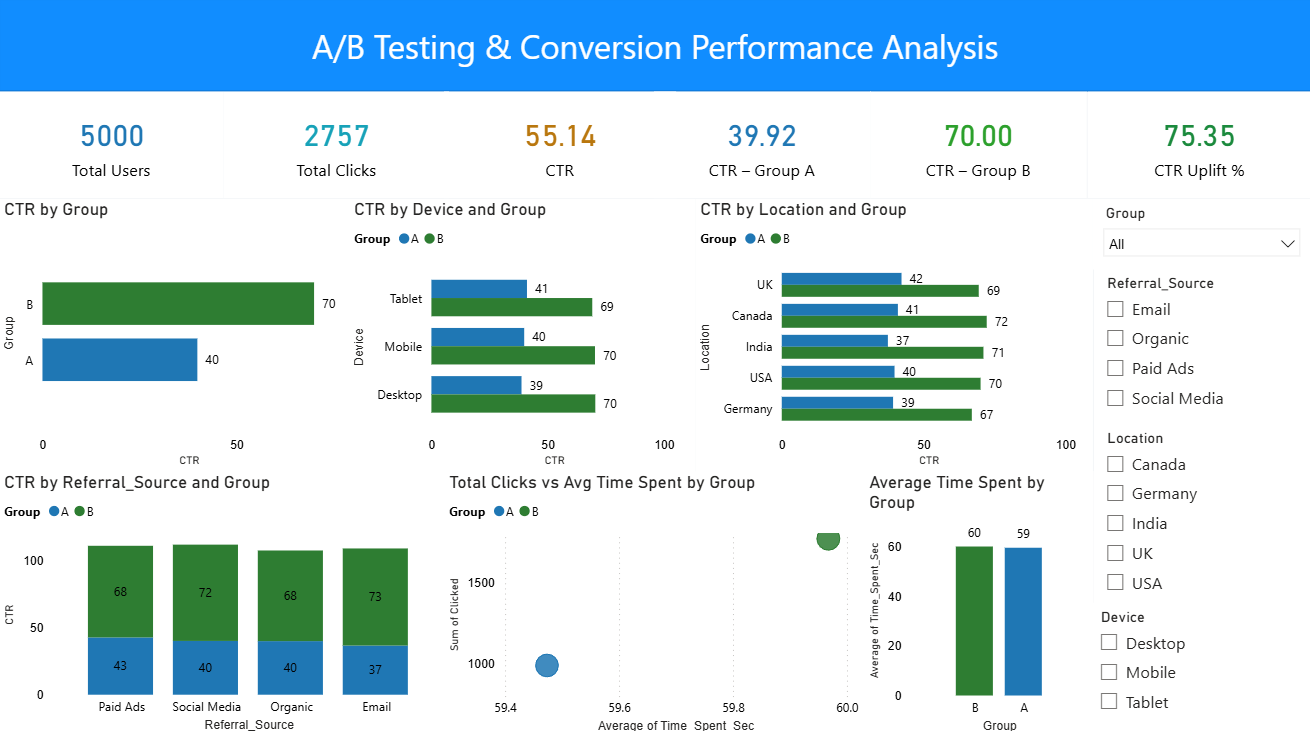

Layout of this report page (visuals, bound fields, positions):
{"tool":"powerbi","page":{"name":"Page 1","canvas":[1280,720],"ordinal":0},"visuals":[{"type":"shape","box":[0,0,1280.6,90.3],"z":0},{"type":"textbox","box":[0,19.4,1280.6,55.6],"z":1000},{"type":"card","fields":{"Values":["CountNonNull(AB_Test_Dataset.User_ID)"]},"box":[0,90.5,219.6,103.8],"z":2000},{"type":"card","fields":{"Values":["Sum(AB_Test_Dataset.Clicked)"]},"box":[219.6,90.5,219.6,103.8],"z":3000},{"type":"card","fields":{"Values":["AB_Test_Dataset.CTR"]},"box":[433.6,90.6,226.4,104.3],"z":4000},{"type":"card","fields":{"Values":["AB_Test_Dataset.Calculat CTR"]},"box":[639.4,90.5,211.1,103.8],"z":5000},{"type":"card","fields":{"Values":["AB_Test_Dataset.CALCULATE CTR B"]},"box":[850.5,90.5,211.1,103.8],"z":6000},{"type":"card","fields":{"Values":["AB_Test_Dataset.uplift %"]},"box":[1061.7,90.5,218.4,103.8],"z":7000},{"type":"clusteredBarChart","fields":{"Y":["AB_Test_Dataset.CTR"],"Category":["AB_Test_Dataset.Group"]},"box":[0,194.9,341.7,266.2],"z":8000},{"type":"clusteredBarChart","fields":{"Category":["AB_Test_Dataset.Device"],"Y":["AB_Test_Dataset.CTR"],"Series":["AB_Test_Dataset.Group"]},"box":[341.7,194.9,337.6,266.2],"z":9000},{"type":"clusteredBarChart","fields":{"Category":["AB_Test_Dataset.Location"],"Series":["AB_Test_Dataset.Group"],"Y":["AB_Test_Dataset.CTR"]},"box":[679.2,194.9,388.3,266.2],"z":10000},{"type":"columnChart","fields":{"Category":["AB_Test_Dataset.Referral_Source"],"Series":["AB_Test_Dataset.Group"],"Y":["AB_Test_Dataset.CTR"]},"box":[0,461.4,440,258.6],"z":11000},{"type":"columnChart","title":"Average Time Spent by Group","fields":{"Category":["AB_Test_Dataset.Group"],"Y":["Avg(AB_Test_Dataset.Time_Spent_Sec)"]},"box":[843.9,461.1,223.7,259.3],"z":12000},{"type":"scatterChart","title":"Total Clicks vs Avg Time Spent by Group","fields":{"X":["Avg(AB_Test_Dataset.Time_Spent_Sec)"],"Y":["Sum(AB_Test_Dataset.Clicked)"],"Series":["AB_Test_Dataset.Group"],"Size":["CountNonNull(AB_Test_Dataset.User_ID)"]},"box":[433.6,461.1,410.3,259.3],"z":13000},{"type":"slicer","fields":{"Values":["AB_Test_Dataset.Device"]},"box":[1061.7,588.7,218.4,131.5],"z":14000},{"type":"slicer","fields":{"Values":["AB_Test_Dataset.Location"]},"box":[1067.7,415,212.3,176.1],"z":15000},{"type":"slicer","fields":{"Values":["AB_Test_Dataset.Referral_Source"]},"box":[1067.7,263,212.3,152],"z":16000},{"type":"slicer","fields":{"Values":["AB_Test_Dataset.Group"]},"box":[1067.6,194.9,212.7,68.6],"z":17000}]}

Visuals, with their boxes in screenshot pixels (x1, y1, x2, y2), scaled from the page's 1280x720 canvas onto the 1310x731 screenshot:
shape: left=0, top=0, right=1309, bottom=92
textbox: left=0, top=20, right=1309, bottom=76
card - CountNonNull(AB_Test_Dataset.User_ID): left=0, top=92, right=225, bottom=197
card - Sum(AB_Test_Dataset.Clicked): left=225, top=92, right=449, bottom=197
card - AB_Test_Dataset.CTR: left=444, top=92, right=675, bottom=198
card - AB_Test_Dataset.Calculat CTR: left=654, top=92, right=870, bottom=197
card - AB_Test_Dataset.CALCULATE CTR B: left=870, top=92, right=1086, bottom=197
card - AB_Test_Dataset.uplift %: left=1087, top=92, right=1309, bottom=197
clusteredBarChart - AB_Test_Dataset.CTR x AB_Test_Dataset.Group: left=0, top=198, right=350, bottom=468
clusteredBarChart - AB_Test_Dataset.Device x AB_Test_Dataset.CTR: left=350, top=198, right=695, bottom=468
clusteredBarChart - AB_Test_Dataset.Location x AB_Test_Dataset.Group: left=695, top=198, right=1093, bottom=468
columnChart - AB_Test_Dataset.Referral_Source x AB_Test_Dataset.Group: left=0, top=468, right=450, bottom=730
"Average Time Spent by Group" columnChart: left=864, top=468, right=1093, bottom=730
"Total Clicks vs Avg Time Spent by Group" scatterChart: left=444, top=468, right=864, bottom=730
slicer - AB_Test_Dataset.Device: left=1087, top=598, right=1309, bottom=730
slicer - AB_Test_Dataset.Location: left=1093, top=421, right=1309, bottom=600
slicer - AB_Test_Dataset.Referral_Source: left=1093, top=267, right=1309, bottom=421
slicer - AB_Test_Dataset.Group: left=1093, top=198, right=1309, bottom=268
